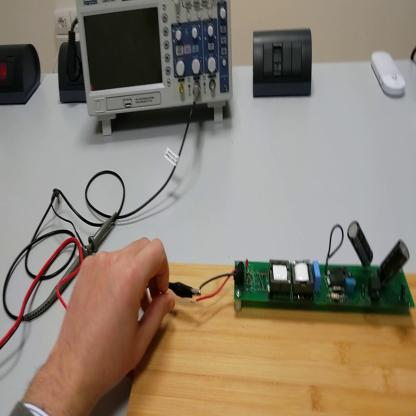hand: (59, 237, 175, 394)
high voltage board: (193, 221, 415, 314)
oscilloscope: (77, 2, 236, 136)
oscilloscope probe tip: (25, 210, 120, 321)
socket: (2, 44, 43, 105), (58, 43, 88, 106)
working area: (128, 263, 416, 416)
